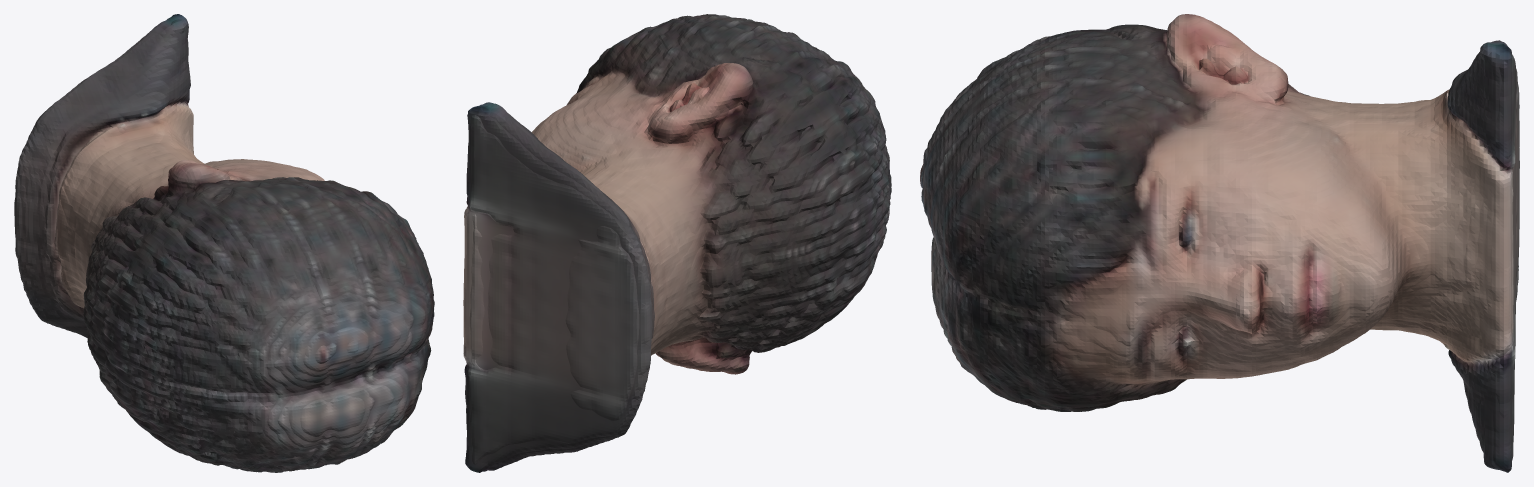
3 renders of one model, left to right at view 1: azimuth 30°, elevation 25°; view 2: azimuth 150°, elevation 25°; view 3: azimuth 270°, elevation 25°, orthographic. The views are drawn at different scales.
Visible parts, largest first — view 1: world; view 2: world; view 3: world.
Boxes of the visible parts, left/top/right/bottom form: world: left=14, top=14, right=434, bottom=472; world: left=463, top=14, right=891, bottom=472; world: left=920, top=14, right=1519, bottom=472.
Size of the model in its own units: 0.7416 by 0.7826 by 1.01.
